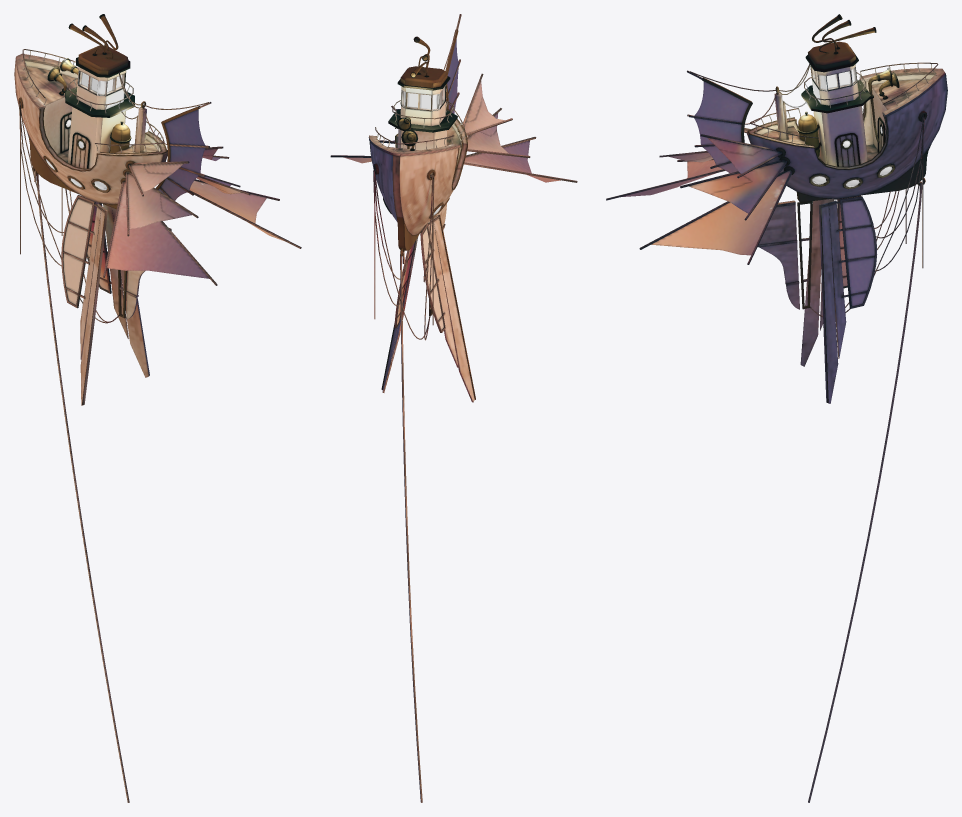
Rendered from spaceship.glb.
3 renders of one model, left to right at view 1: azimuth 30°, elevation 25°; view 2: azimuth 150°, elevation 25°; view 3: azimuth 270°, elevation 25°, orthographic.
Visible parts, largest first — view 1: Boot_Finaal_1_Boot_Finaal_0; view 2: Boot_Finaal_1_Boot_Finaal_0; view 3: Boot_Finaal_1_Boot_Finaal_0.
Boxes of the visible parts, x1,y1,x2,y2 form: Boot_Finaal_1_Boot_Finaal_0: (14,14,301,802); Boot_Finaal_1_Boot_Finaal_0: (330,14,577,802); Boot_Finaal_1_Boot_Finaal_0: (606,14,947,802).
Bounding box in the file's own units: 8.63 × 30.37 × 12.01.
1 material, 1 textured.
